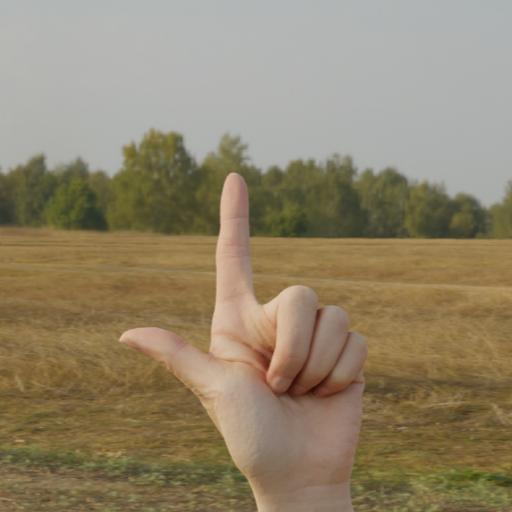L: (109, 167, 383, 507)
